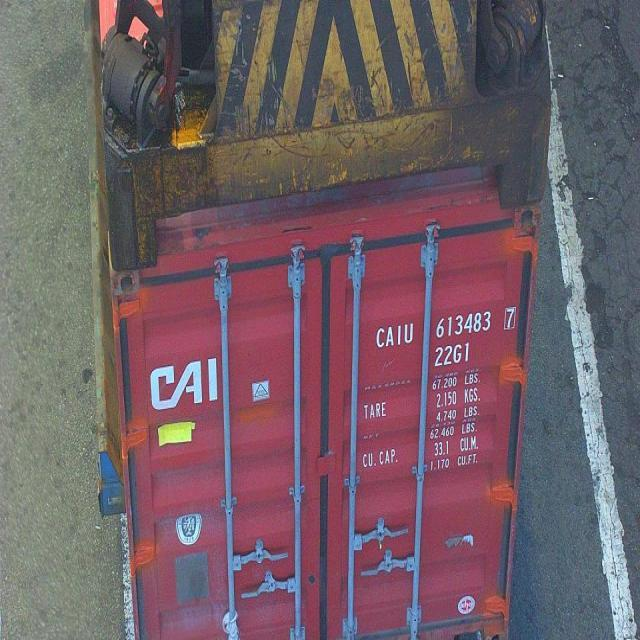ISO: (434, 341, 472, 368)
container_number: (376, 303, 518, 351)
